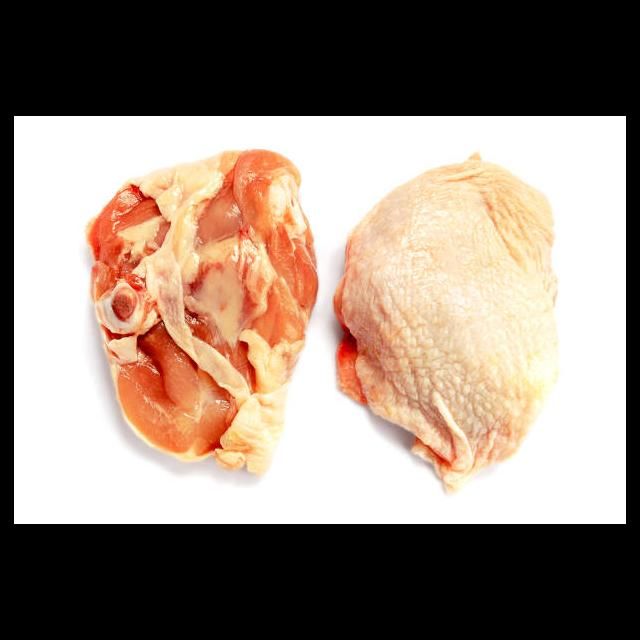chicken: (333, 151, 565, 498), (84, 147, 321, 476)
